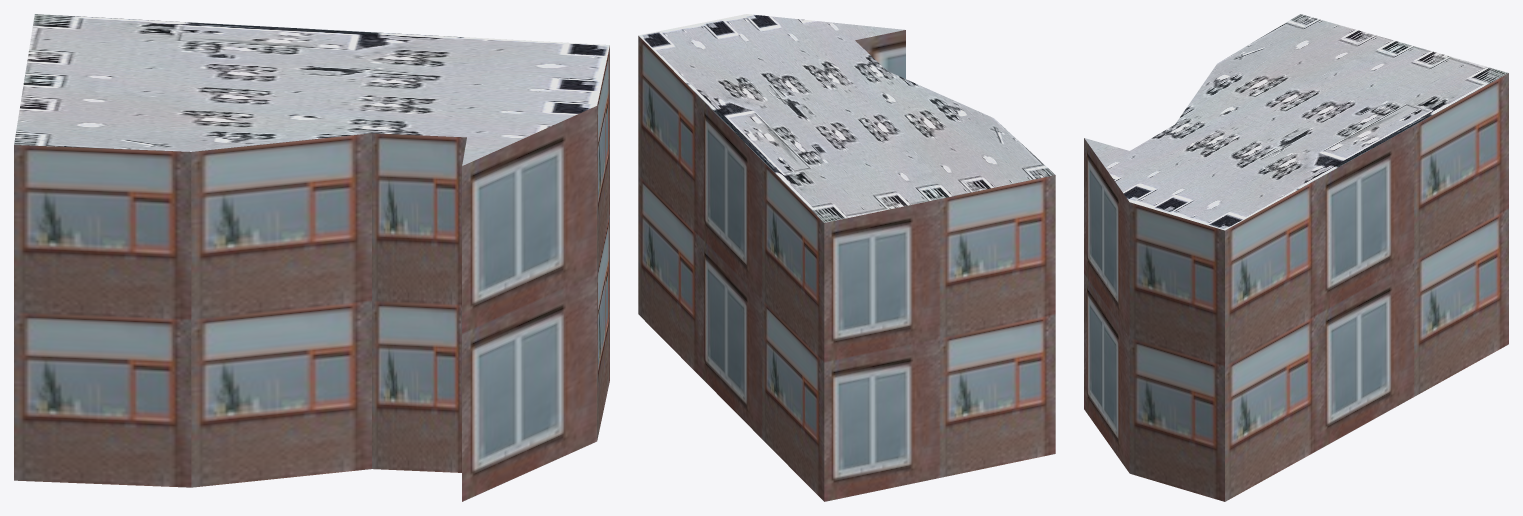
The model's file is ResTex__3705.fbx.
The picture shows the model from 3 angles, left to right: view 1: azimuth 30°, elevation 25°; view 2: azimuth 150°, elevation 25°; view 3: azimuth 270°, elevation 25°; orthographic projection. The views are drawn at different scales.
Parts seen in each view (by area): view 1: CityEngineMaterial_19_m, CityEngineMaterial_15_m; view 2: CityEngineMaterial_19_m, CityEngineMaterial_15_m; view 3: CityEngineMaterial_19_m, CityEngineMaterial_15_m.
Boxes of the visible parts, left/top/right/bottom form: CityEngineMaterial_19_m: left=14, top=46, right=609, bottom=501; CityEngineMaterial_15_m: left=14, top=14, right=609, bottom=165; CityEngineMaterial_19_m: left=638, top=30, right=1055, bottom=501; CityEngineMaterial_15_m: left=638, top=14, right=1055, bottom=222; CityEngineMaterial_19_m: left=1084, top=73, right=1508, bottom=501; CityEngineMaterial_15_m: left=1084, top=14, right=1508, bottom=230.
Bounding box in the file's own units: 10.27 × 6 × 8.51.
2 materials, 2 textured.
